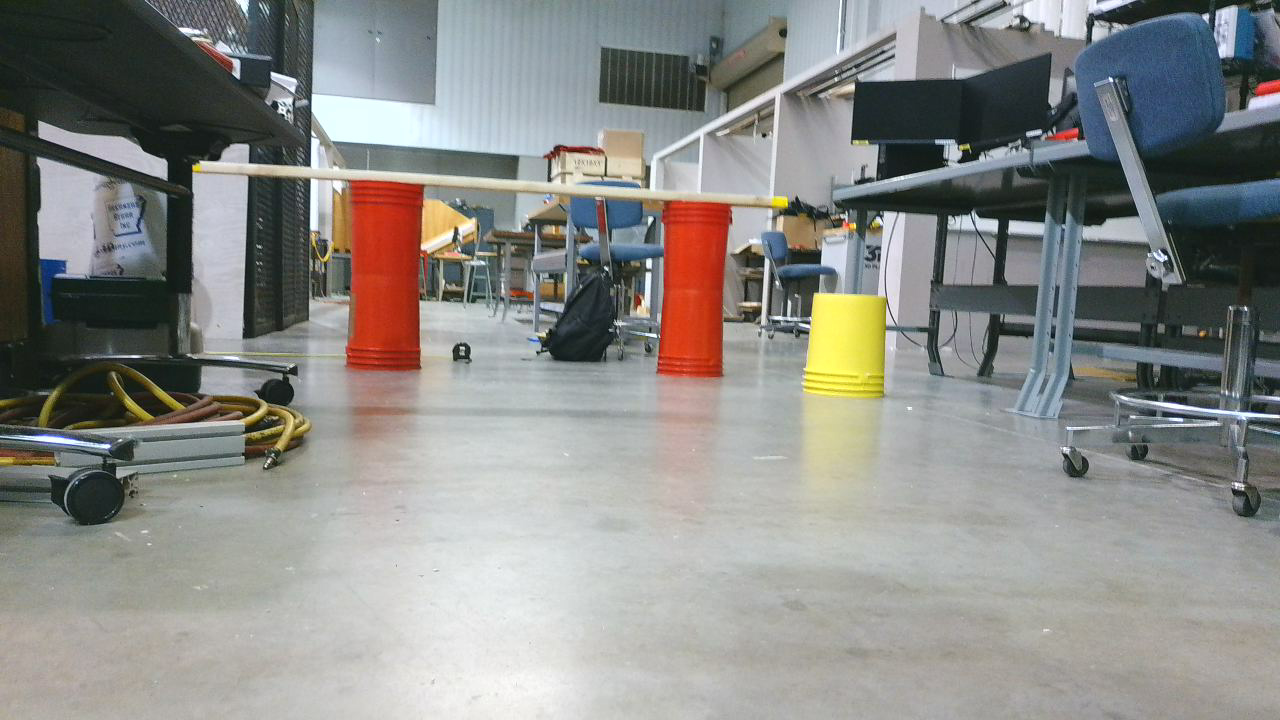red_bucket_arch: (345, 186, 738, 382)
yellow_bucket: (808, 297, 895, 400)
